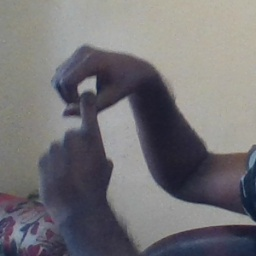Q: (32, 43, 152, 193)
